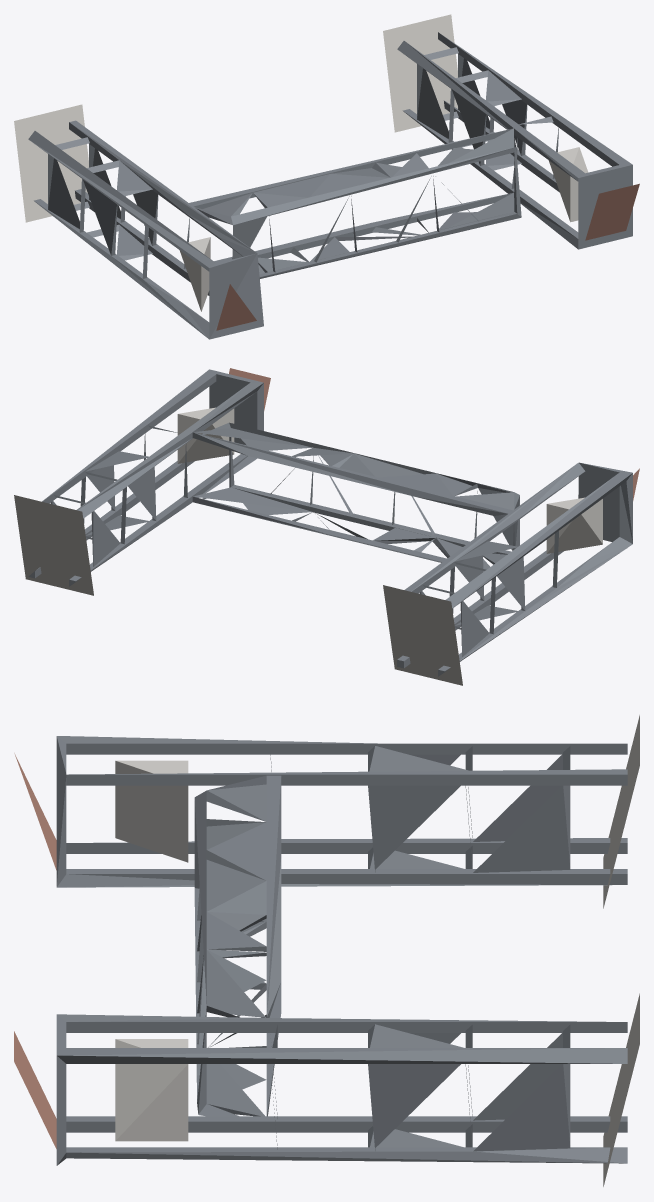
Rendered from r-114-cuyahoga-vertical-lift-bridge.lod1.glb.
The picture shows the model from 3 angles, top to bottom: view 1: azimuth 30°, elevation 25°; view 2: azimuth 150°, elevation 25°; view 3: azimuth 270°, elevation 25°; orthographic projection. The views are drawn at different scales.
Parts seen in each view (by area): view 1: steelwork, piers-counterweights, machinery-houses; view 2: steelwork, piers-counterweights, machinery-houses; view 3: steelwork, piers-counterweights, machinery-houses.
Part boxes in pixels (x1,y1,x2,y2): steelwork: [28, 32, 632, 339]; piers-counterweights: [14, 14, 588, 311]; machinery-houses: [216, 183, 639, 330]; steelwork: [28, 369, 632, 676]; piers-counterweights: [14, 407, 602, 685]; machinery-houses: [229, 368, 639, 500]; steelwork: [56, 736, 627, 1165]; piers-counterweights: [115, 715, 639, 1186]; machinery-houses: [14, 753, 56, 1148].
Bounding box in the file's own units: 64000 × 13000 × 51299.
